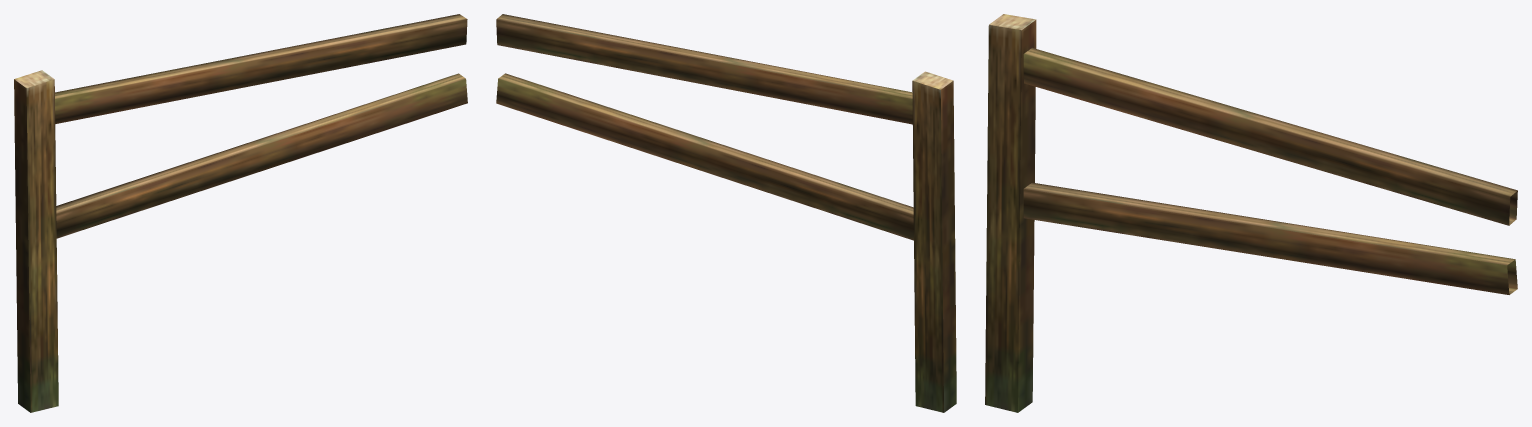
The model's file is general_obj_fence02.fbx.
The picture shows the model from 3 angles, left to right: view 1: azimuth 30°, elevation 25°; view 2: azimuth 150°, elevation 25°; view 3: azimuth 330°, elevation 25°; orthographic projection. The views are drawn at different scales.
Visible parts, largest first — view 1: Sphere01; view 2: Sphere01; view 3: Sphere01.
Boxes of the visible parts, box(x1,y1,x2,y2) form: Sphere01: box(14, 14, 467, 412); Sphere01: box(496, 14, 956, 412); Sphere01: box(985, 14, 1517, 412).
Bounding box in the file's own units: 3.19 × 2.23 × 0.2022.
